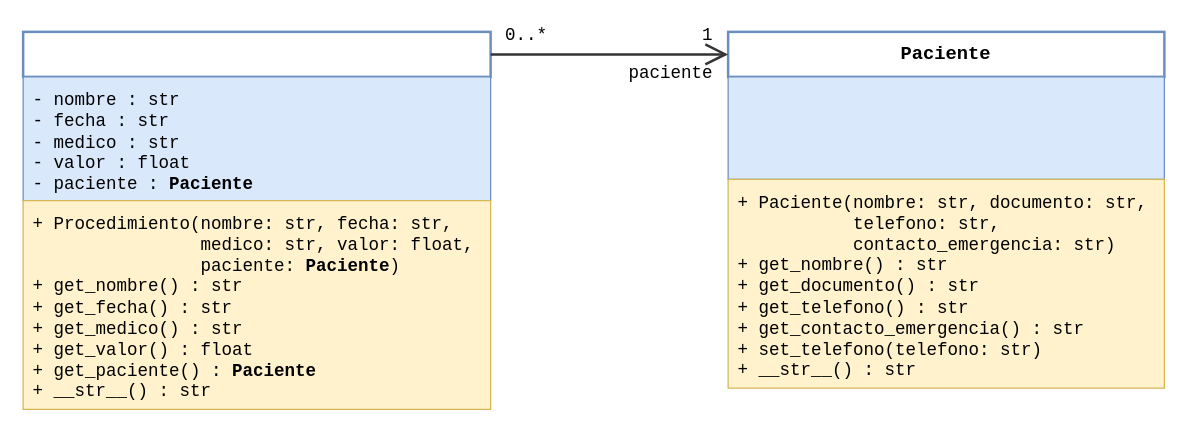
Image size: 1186x431. Some labels were removed from this diagram. Here are the shapes that lost their labels. From the top down, the centre of each, then its label:
point 256,54: Procedimiento
point 945,127: - nombre : str - documento : str - telefono : str - contacto_emergencia : str
